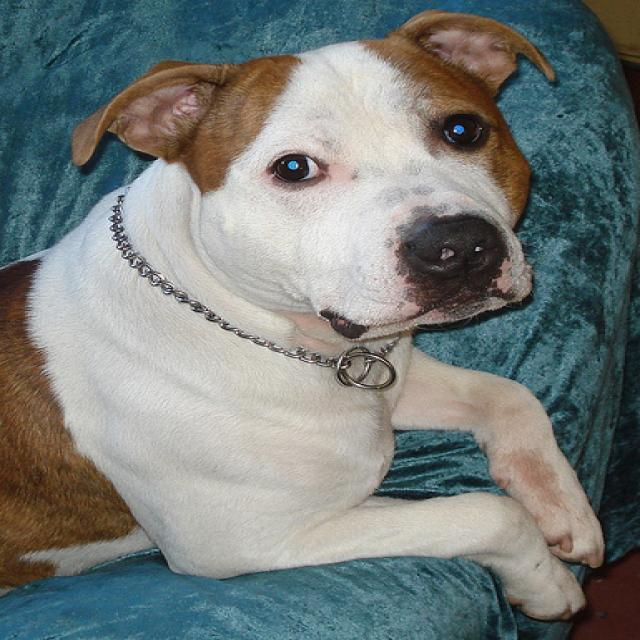dog-staffordshire_bull_terrier: (2, 5, 612, 626)
